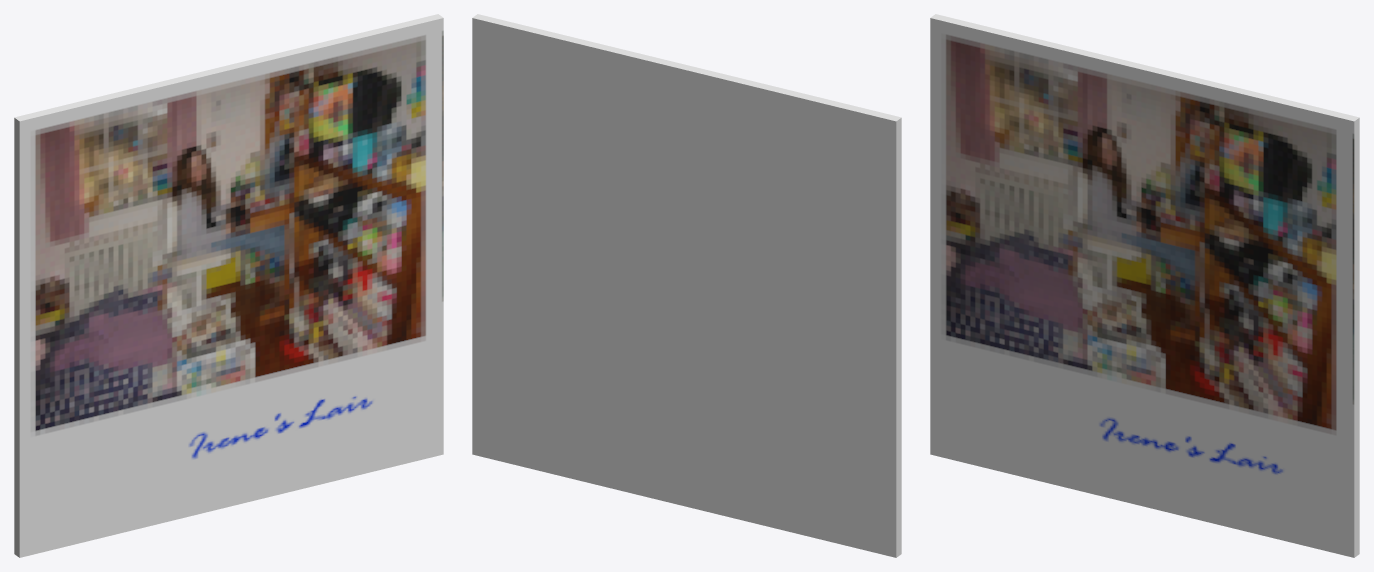
The model's file is roomPhoto.fbx.
The picture shows the model from 3 angles, left to right: view 1: azimuth 30°, elevation 25°; view 2: azimuth 150°, elevation 25°; view 3: azimuth 330°, elevation 25°; orthographic projection.
Parts seen in each view (by area): view 1: Cube; view 2: Cube; view 3: Cube.
Part boxes in pixels (x1,y1,x2,y2): Cube: (14, 14, 443, 557); Cube: (472, 14, 901, 557); Cube: (930, 14, 1359, 557).
Size of the model in its own units: 36.05 by 35.46 by 0.8.
